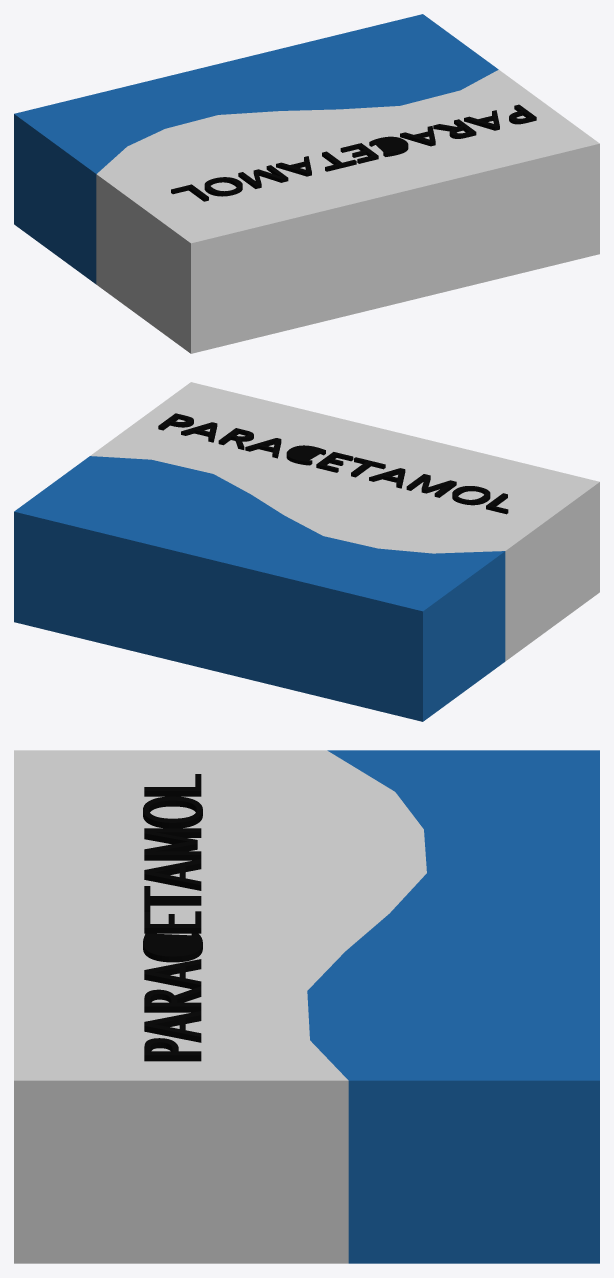
File: Paraceptamol.fbx
3 renders of one model, top to bottom at view 1: azimuth 30°, elevation 25°; view 2: azimuth 150°, elevation 25°; view 3: azimuth 270°, elevation 25°, orthographic. The views are drawn at different scales.
Visible parts, largest first — view 1: Plant:pCube1, Plant:typeMesh1; view 2: Plant:pCube1, Plant:typeMesh1; view 3: Plant:pCube1, Plant:typeMesh1.
Boxes of the visible parts, x1,y1,x2,y2 form: Plant:pCube1: [14, 14, 599, 353]; Plant:typeMesh1: [171, 104, 536, 201]; Plant:pCube1: [14, 382, 599, 721]; Plant:typeMesh1: [158, 413, 508, 514]; Plant:pCube1: [14, 750, 599, 1263]; Plant:typeMesh1: [143, 774, 202, 1061].
Size of the model in its own units: 0.8054 by 0.2146 by 0.6038.
